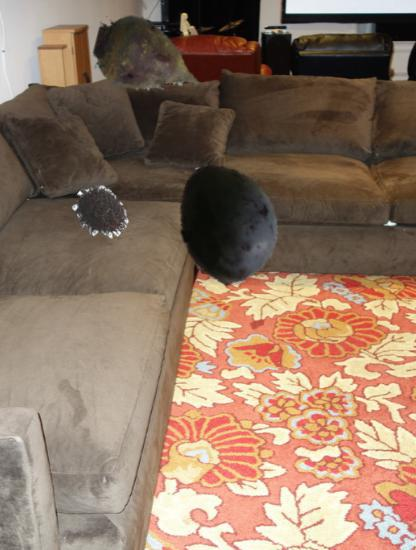Beetroot: (91, 0, 205, 114)
Plum: (166, 161, 290, 285)
Rambutan: (70, 183, 130, 243)
